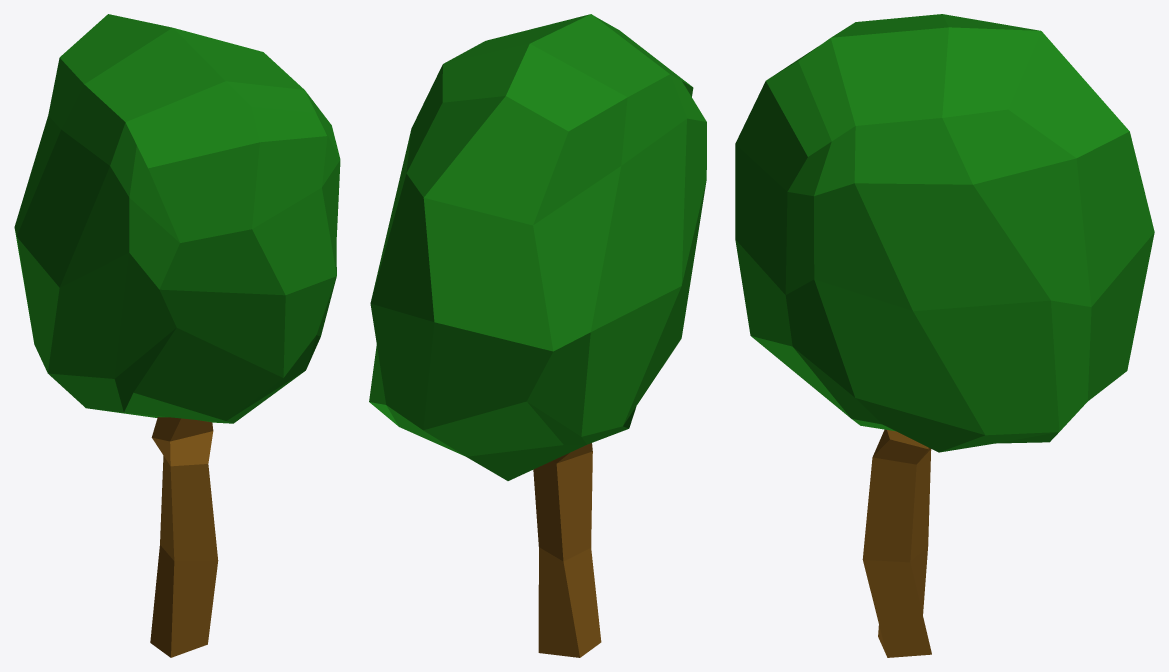
3 renders of one model, left to right at view 1: azimuth 30°, elevation 25°; view 2: azimuth 150°, elevation 25°; view 3: azimuth 270°, elevation 25°, orthographic. The views are drawn at different scales.
Visible parts, largest first — view 1: Cube.001, Cube; view 2: Cube.001, Cube; view 3: Cube.001, Cube.
Part boxes in pixels (box(x1,y1,x2,y2)): Cube.001: box(14, 14, 340, 423); Cube: box(150, 417, 218, 657); Cube.001: box(369, 14, 706, 480); Cube: box(533, 443, 601, 657); Cube.001: box(735, 14, 1154, 452); Cube: box(862, 429, 931, 657).
Size of the model in its own units: 38.88 by 89.29 by 54.08.
